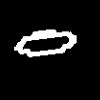chain: (14, 30, 75, 56)
